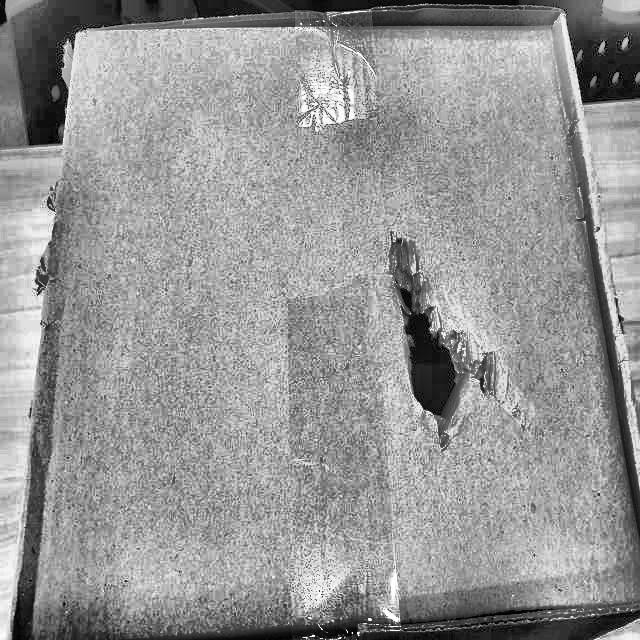box: (0, 0, 639, 639)
hole: (381, 233, 511, 455)
